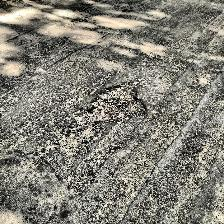pothole: (86, 82, 146, 126), (51, 125, 99, 155), (62, 17, 86, 25)
